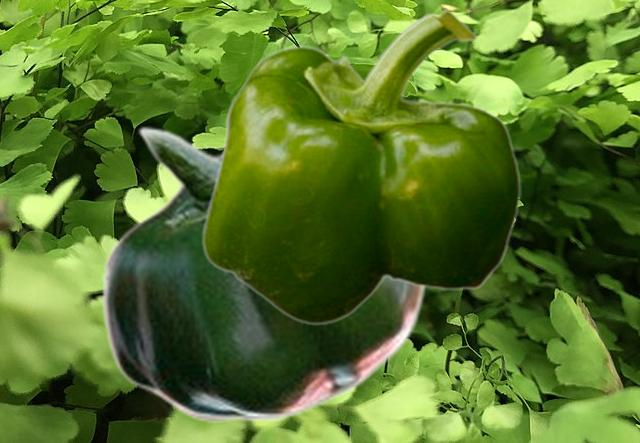bell_pepper: (201, 9, 520, 325), (99, 120, 431, 421)
